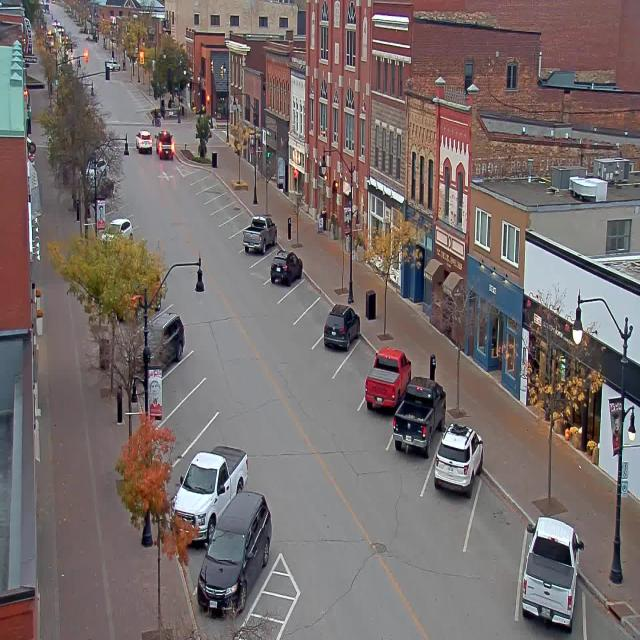available: (463, 467, 540, 579), (186, 408, 248, 469), (584, 576, 640, 640), (171, 373, 229, 434), (158, 338, 209, 392), (342, 325, 383, 386), (302, 288, 334, 334), (288, 270, 318, 313), (252, 235, 277, 274), (230, 207, 250, 237), (224, 199, 241, 221), (208, 178, 224, 198), (216, 187, 231, 208), (201, 172, 215, 191), (194, 162, 208, 180)
occupied: (196, 490, 272, 617), (171, 444, 248, 547), (521, 515, 584, 631), (392, 374, 446, 456), (434, 421, 484, 497), (364, 345, 411, 412), (143, 308, 185, 364), (323, 302, 360, 351), (242, 214, 277, 254), (270, 249, 303, 286)
